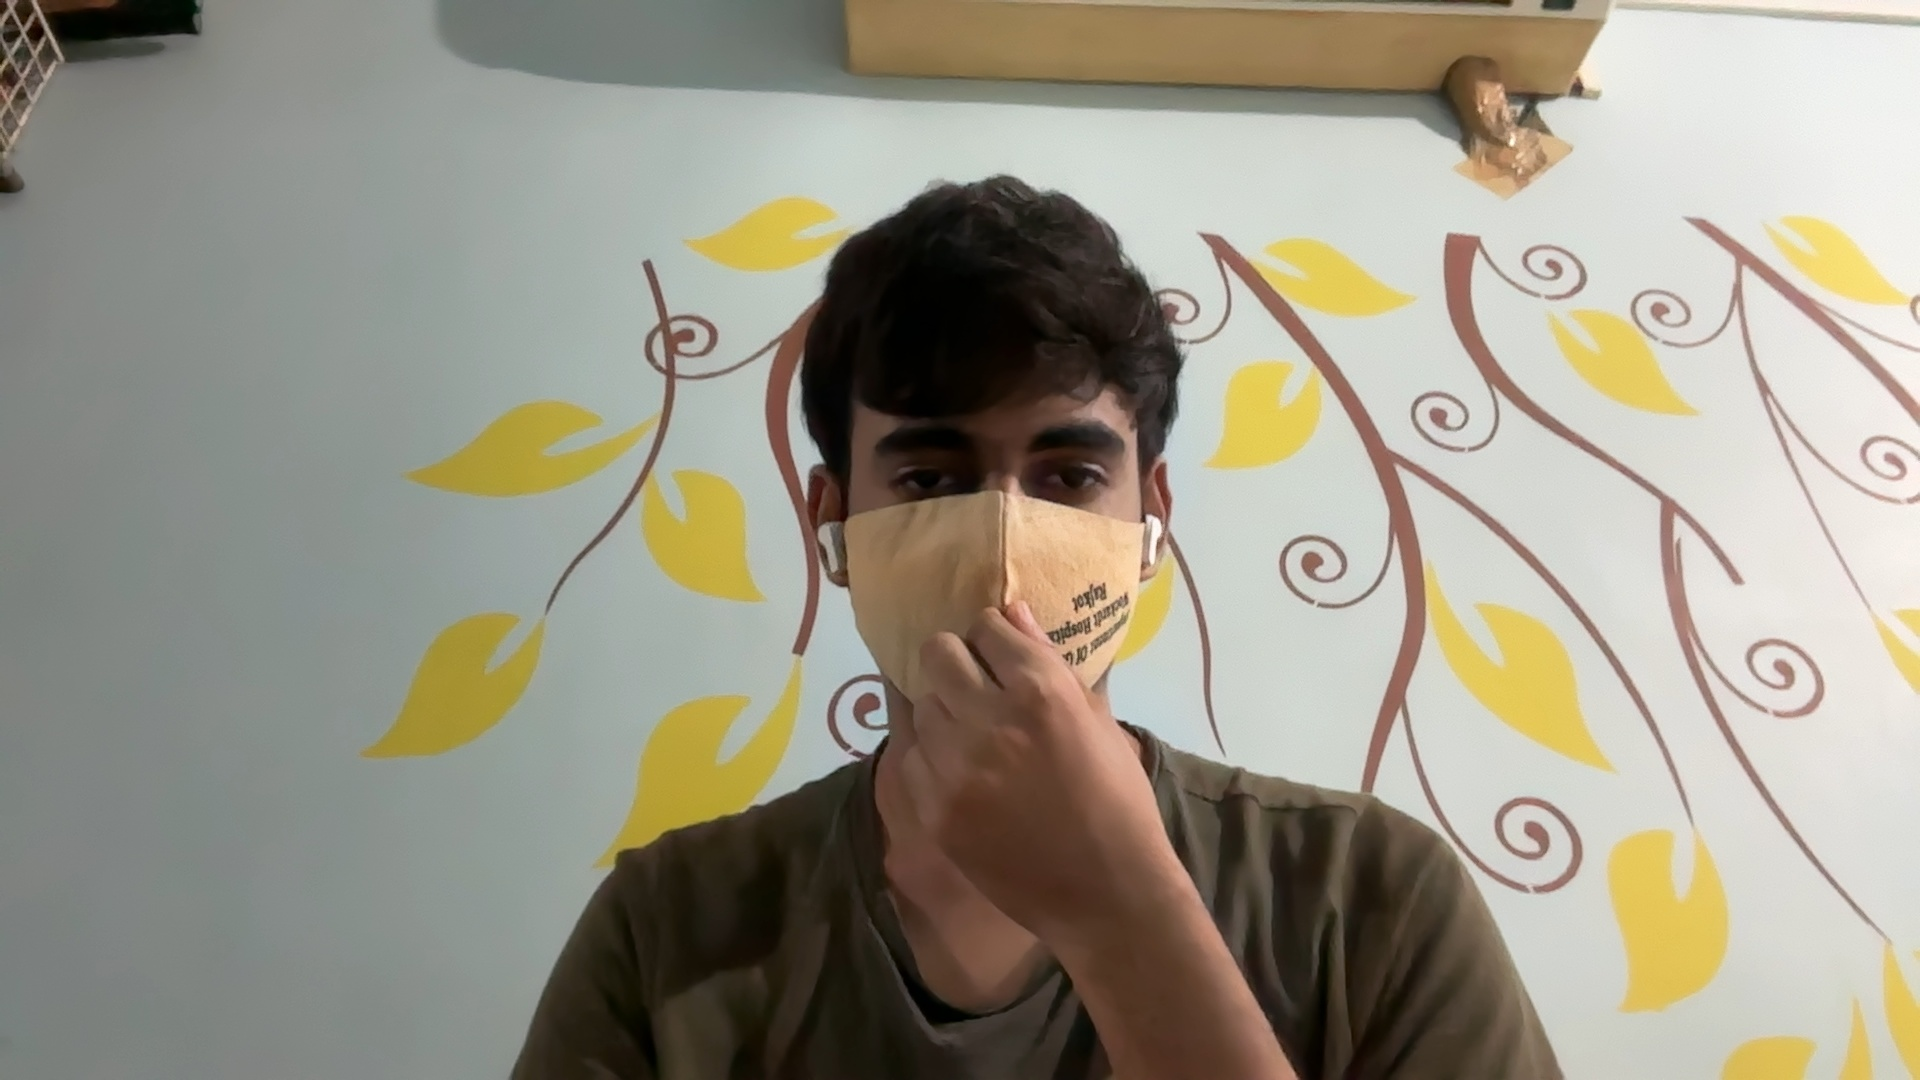Mask: (837, 495, 1157, 705)
